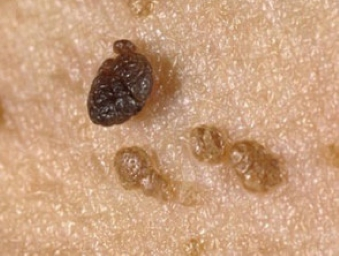seborrheic keratosis: (59, 40, 306, 224)
